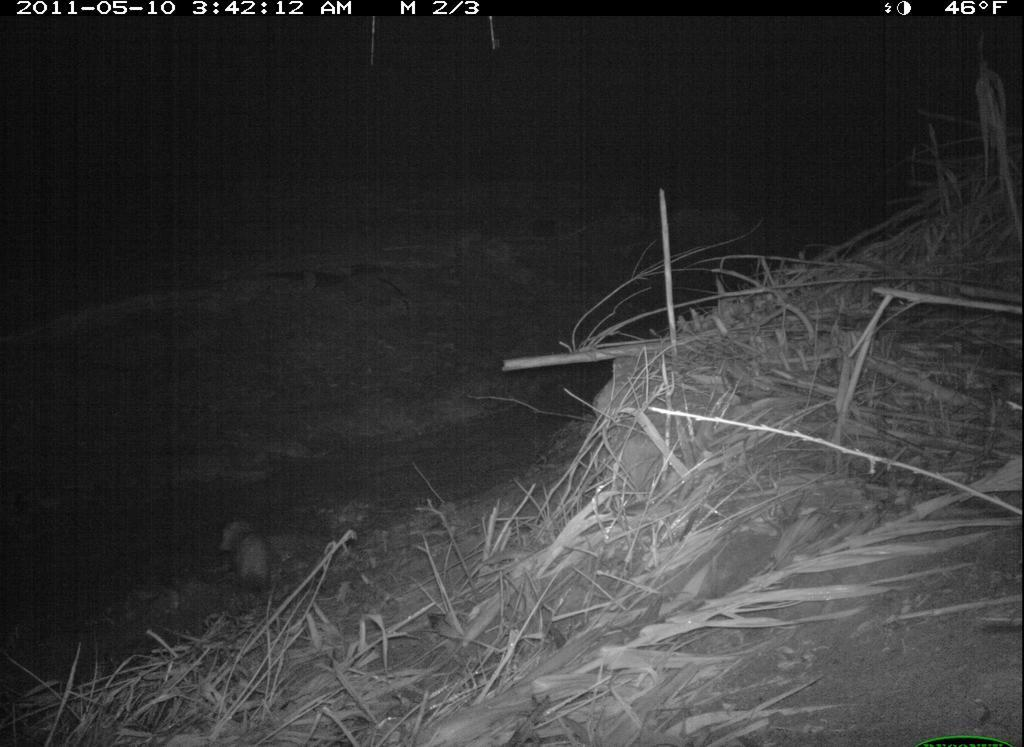opossum: (214, 507, 296, 611)
